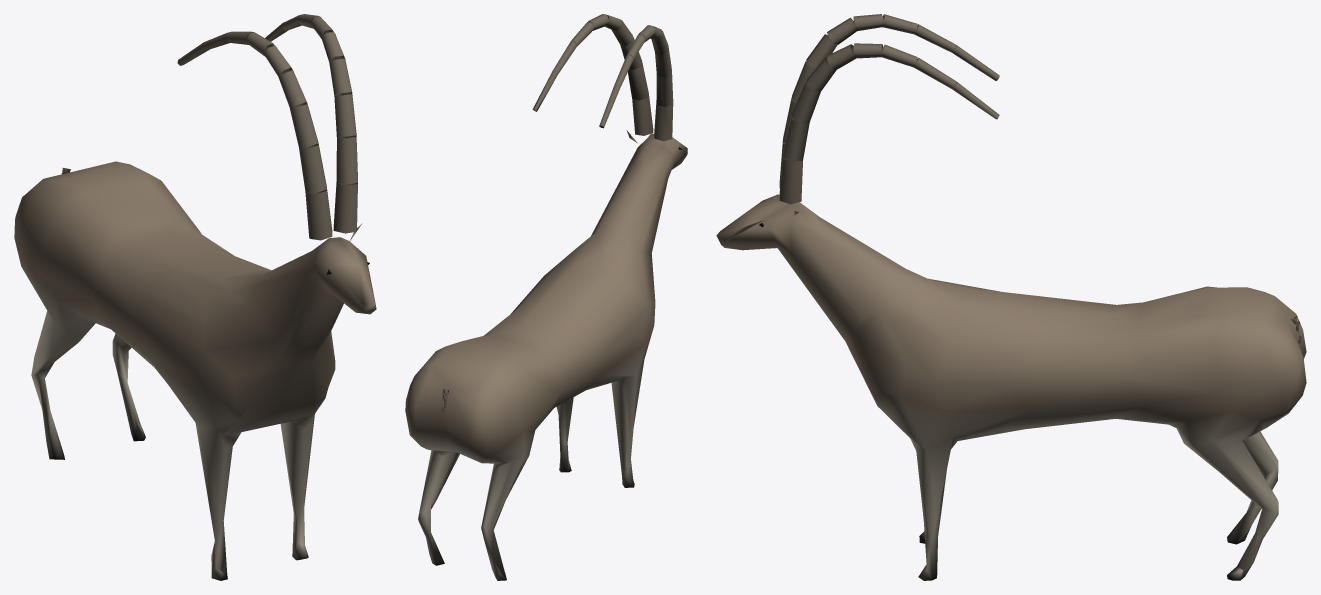
Rendered from steinbock.glb.
The picture shows the model from 3 angles, left to right: view 1: azimuth 30°, elevation 25°; view 2: azimuth 150°, elevation 25°; view 3: azimuth 270°, elevation 25°; orthographic projection. The views are drawn at different scales.
Parts seen in each view (by area): view 1: lack; view 2: lack; view 3: lack.
Boxes of the visible parts, x1=… form: lack: x1=14, y1=14, x2=376, y2=580; lack: x1=405, y1=14, x2=687, y2=580; lack: x1=716, y1=14, x2=1306, y2=580.
Size of the model in its own units: 0.4514 by 1.75 by 1.77.
